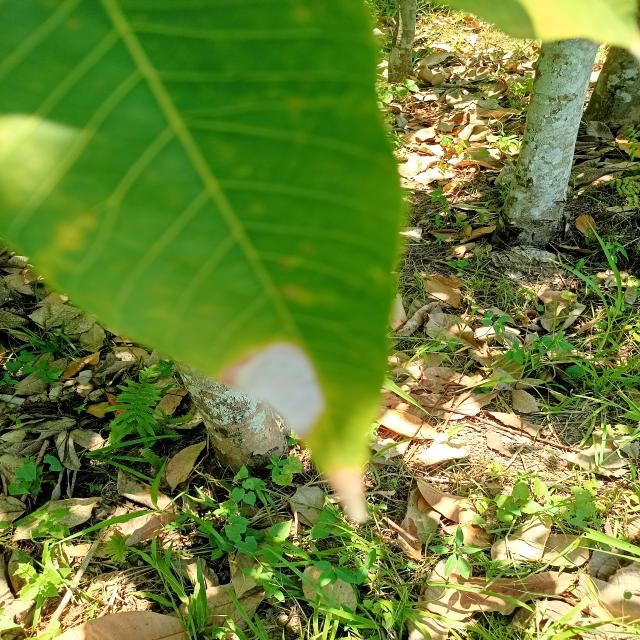Leaf-Blight: (222, 341, 326, 434)
